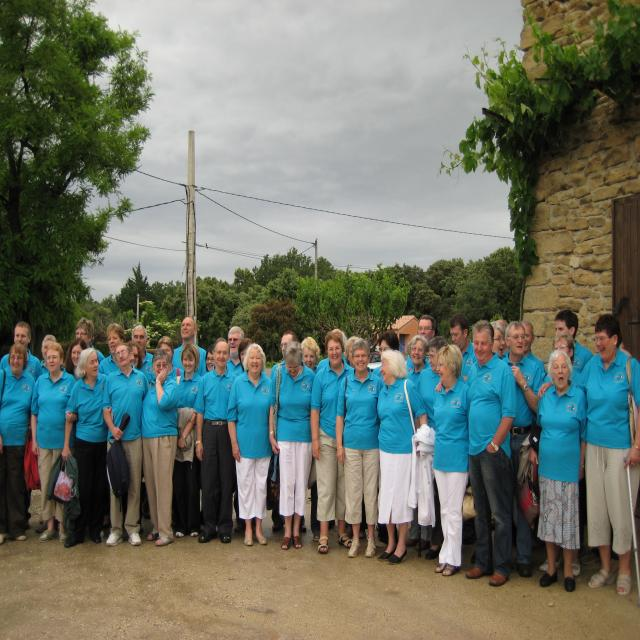body: (432, 316, 518, 588), (577, 312, 639, 597), (534, 348, 590, 594), (334, 336, 387, 558), (375, 348, 429, 564), (60, 346, 114, 549), (29, 336, 81, 544), (192, 336, 242, 545), (226, 343, 277, 547), (502, 320, 542, 578), (308, 330, 356, 544), (268, 341, 317, 550), (101, 342, 150, 546), (431, 344, 471, 578), (414, 335, 454, 561), (141, 348, 182, 546), (0, 342, 37, 546), (402, 334, 432, 552), (170, 342, 203, 538), (300, 336, 320, 542), (491, 318, 547, 376), (0, 319, 44, 386), (553, 308, 593, 375), (170, 316, 208, 377), (544, 333, 584, 388), (448, 312, 478, 383), (404, 314, 436, 372), (314, 327, 349, 376), (96, 323, 126, 377), (203, 339, 252, 371), (371, 328, 401, 378), (131, 324, 155, 385), (270, 329, 298, 380), (75, 317, 105, 364), (157, 335, 184, 379), (329, 328, 360, 364), (64, 338, 88, 382), (226, 326, 245, 373), (343, 336, 364, 370), (41, 334, 58, 373), (237, 337, 254, 374), (613, 338, 634, 363), (128, 341, 142, 369)
